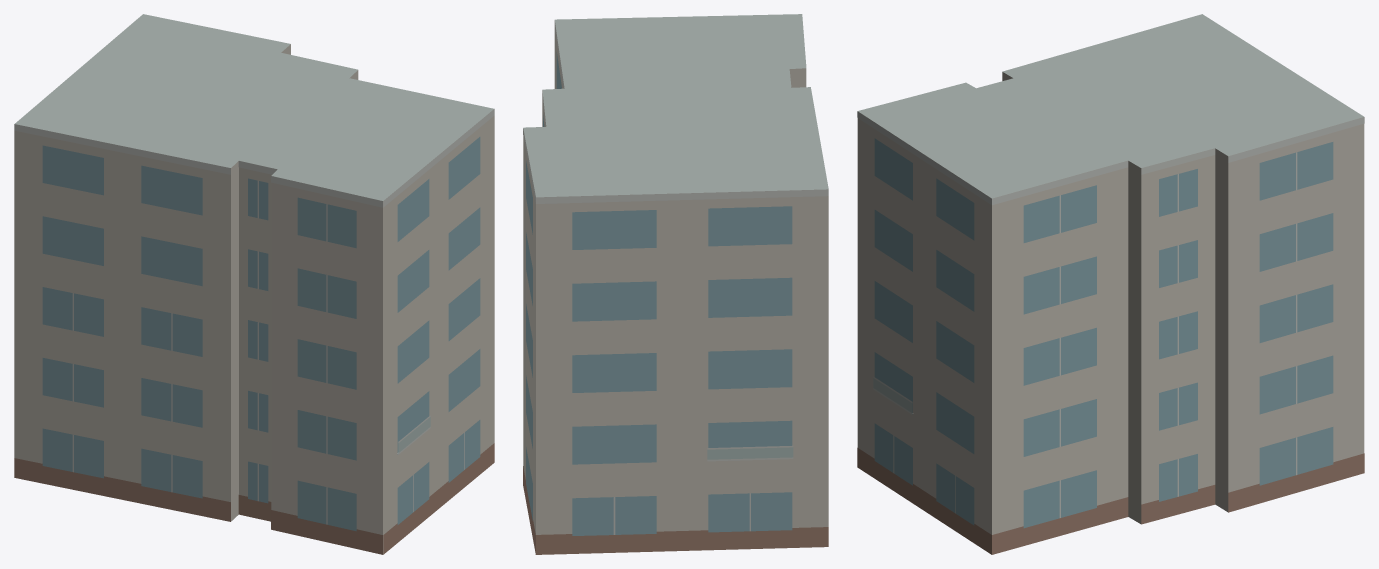
File: survey-upis-33000440.glb
The picture shows the model from 3 angles, left to right: view 1: azimuth 30°, elevation 25°; view 2: azimuth 150°, elevation 25°; view 3: azimuth 270°, elevation 25°; orthographic projection.
Visible parts, largest first — view 1: survey-upis-33000440.tmp; view 2: survey-upis-33000440.tmp; view 3: survey-upis-33000440.tmp.
Boxes of the visible parts, left/top/right/bottom form: survey-upis-33000440.tmp: left=14, top=14, right=494, bottom=554; survey-upis-33000440.tmp: left=523, top=14, right=828, bottom=554; survey-upis-33000440.tmp: left=857, top=14, right=1364, bottom=554.
Size of the model in its own units: 14.43 by 12.98 by 16.75.
